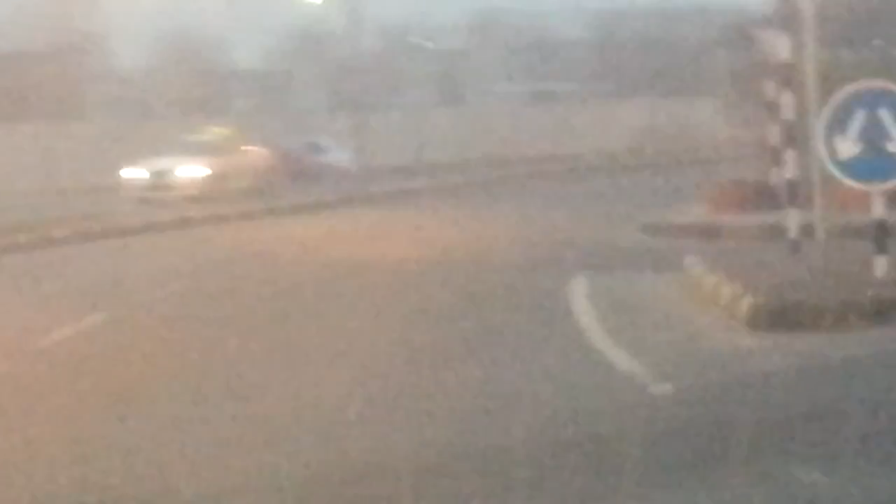car: (111, 123, 275, 202)
